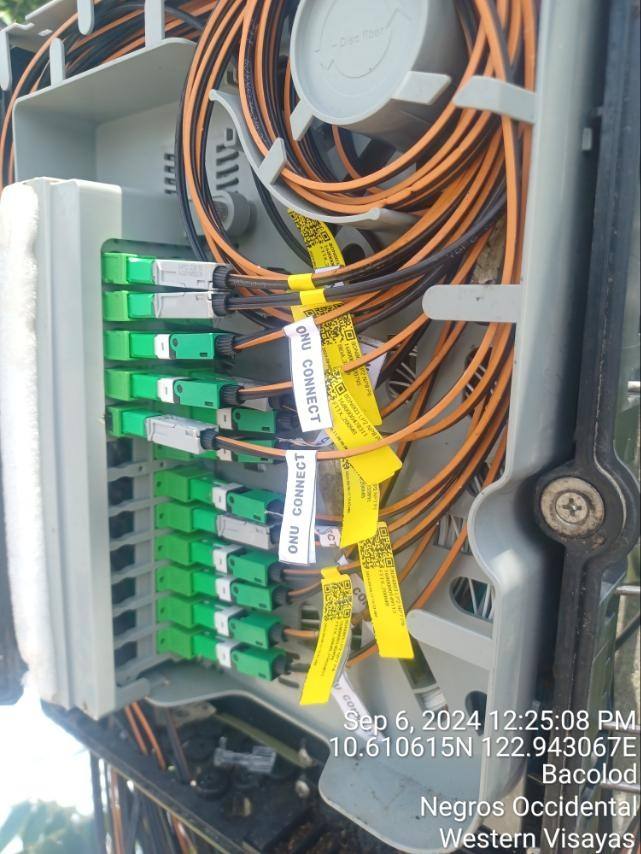no port: (107, 538, 154, 579), (112, 603, 154, 644), (112, 633, 152, 676), (107, 473, 151, 511), (105, 435, 150, 472), (111, 571, 153, 609), (109, 508, 150, 543)
occupied: (128, 375, 264, 417), (120, 409, 234, 459), (186, 475, 287, 529), (187, 546, 295, 590), (189, 509, 291, 555), (191, 605, 296, 646), (193, 638, 281, 684), (194, 434, 295, 472), (127, 260, 242, 292), (196, 374, 285, 415), (191, 574, 295, 609), (127, 330, 248, 360), (191, 404, 291, 436), (127, 292, 240, 319)
vacant: (187, 266, 222, 294), (191, 295, 221, 325), (183, 331, 212, 358)
